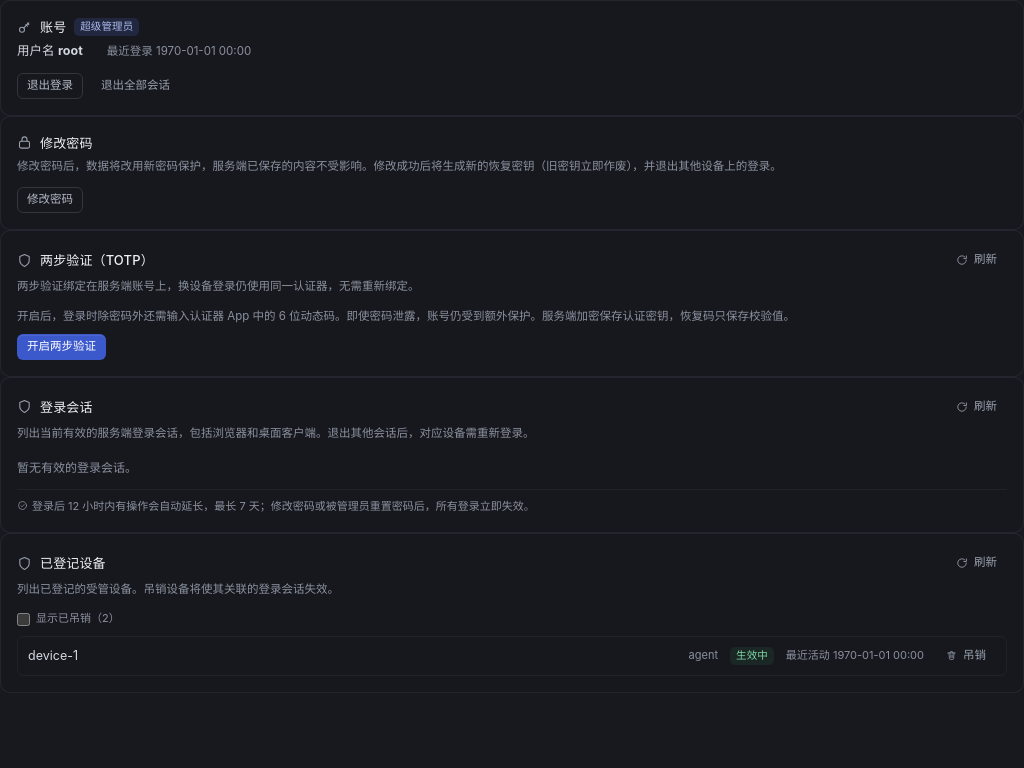
Test: registered device list › hides revoked devices by default and reveals them on request
Click the checkbox labelled "显示已吊销（2）": (24, 619) left=17, top=613, right=30, bottom=626
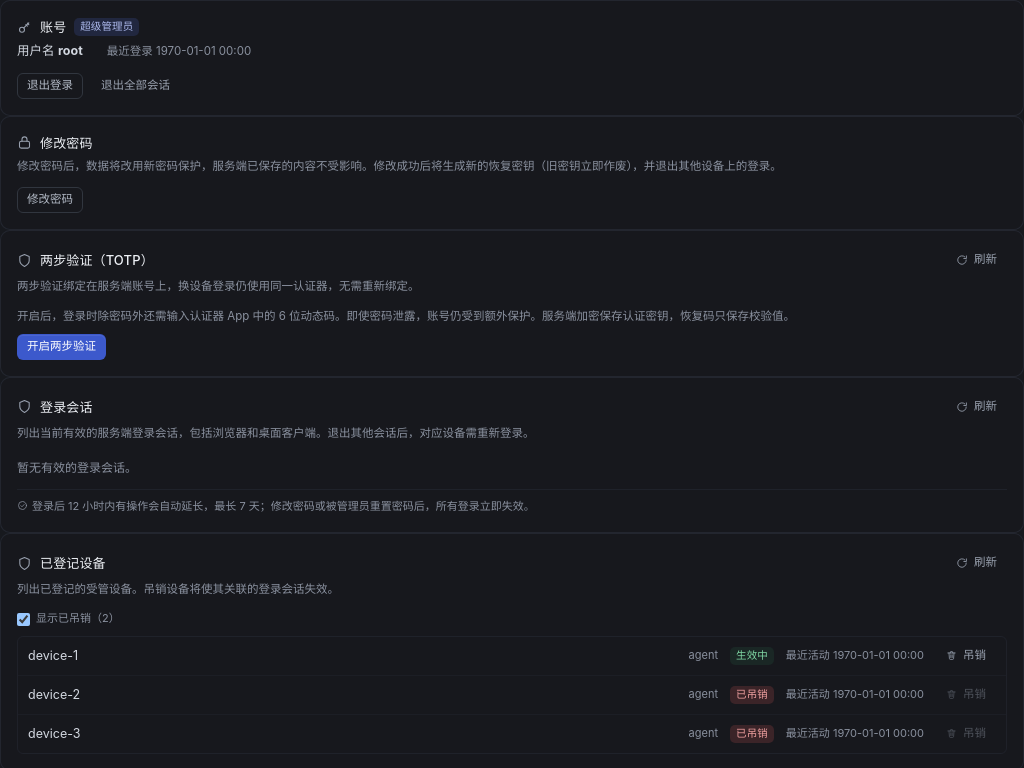
Expected: the text "device-2" is shown, left=28, top=687, right=80, bottom=702
Expected: the text "device-3" is shown, left=28, top=726, right=80, bottom=741
